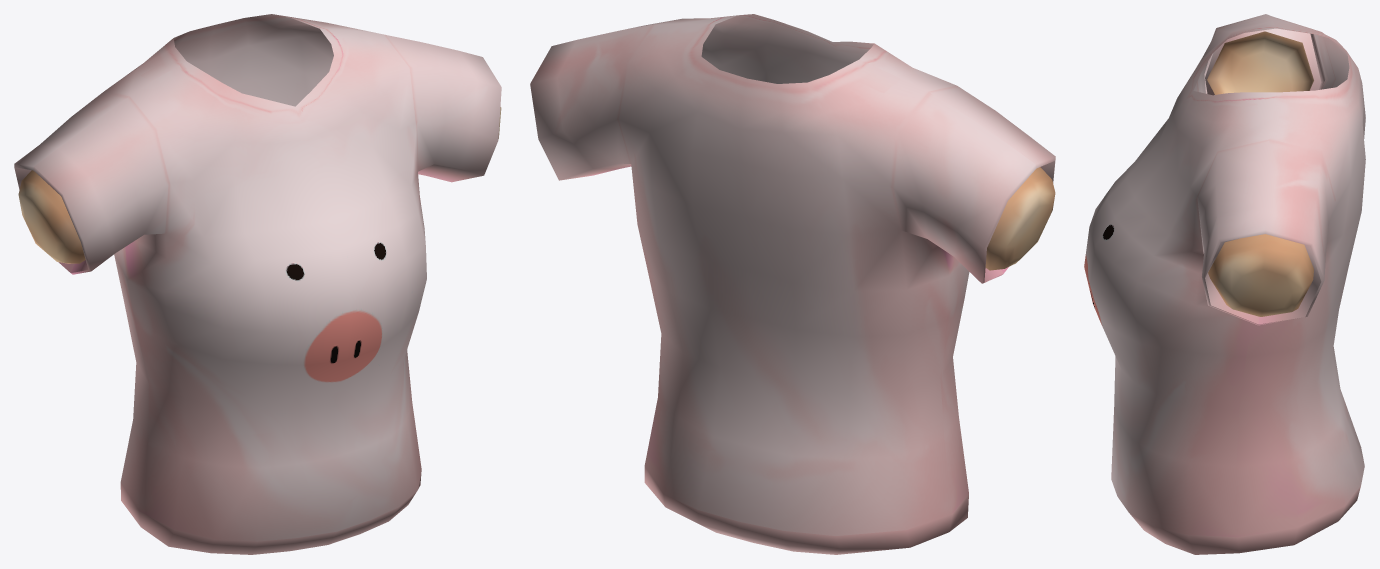
Rendered from girl_body1.FBX.
The picture shows the model from 3 angles, left to right: view 1: azimuth 30°, elevation 25°; view 2: azimuth 150°, elevation 25°; view 3: azimuth 270°, elevation 25°; orthographic projection. The views are drawn at different scales.
Parts seen in each view (by area): view 1: girl_body04; view 2: girl_body04; view 3: girl_body04.
Boxes of the visible parts, x1,y1,x2,y2 form: girl_body04: (14, 14, 501, 554); girl_body04: (530, 14, 1055, 554); girl_body04: (1084, 14, 1365, 554).
Size of the model in its own units: 43.78 by 41.53 by 23.87.
